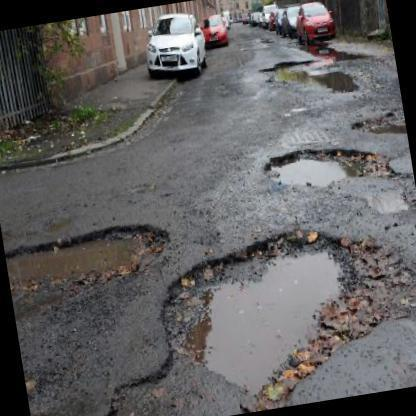pothole: (141, 220, 416, 401), (0, 216, 179, 306), (260, 140, 416, 196), (263, 57, 360, 100)
